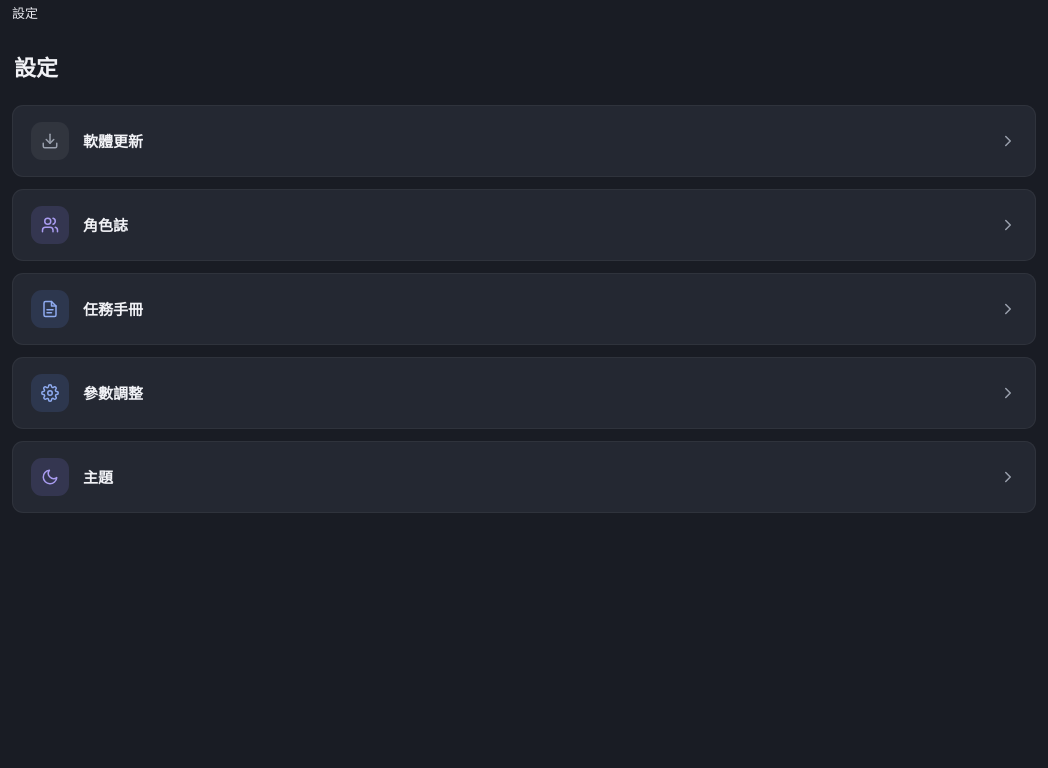
Test: SettingsPage · 角色誌 新增角色定義 (inline row) › Esc collapses the row without creating; the confirm button also creates
Click the button "角色誌" at (50, 224), box [12,188,1036,260]
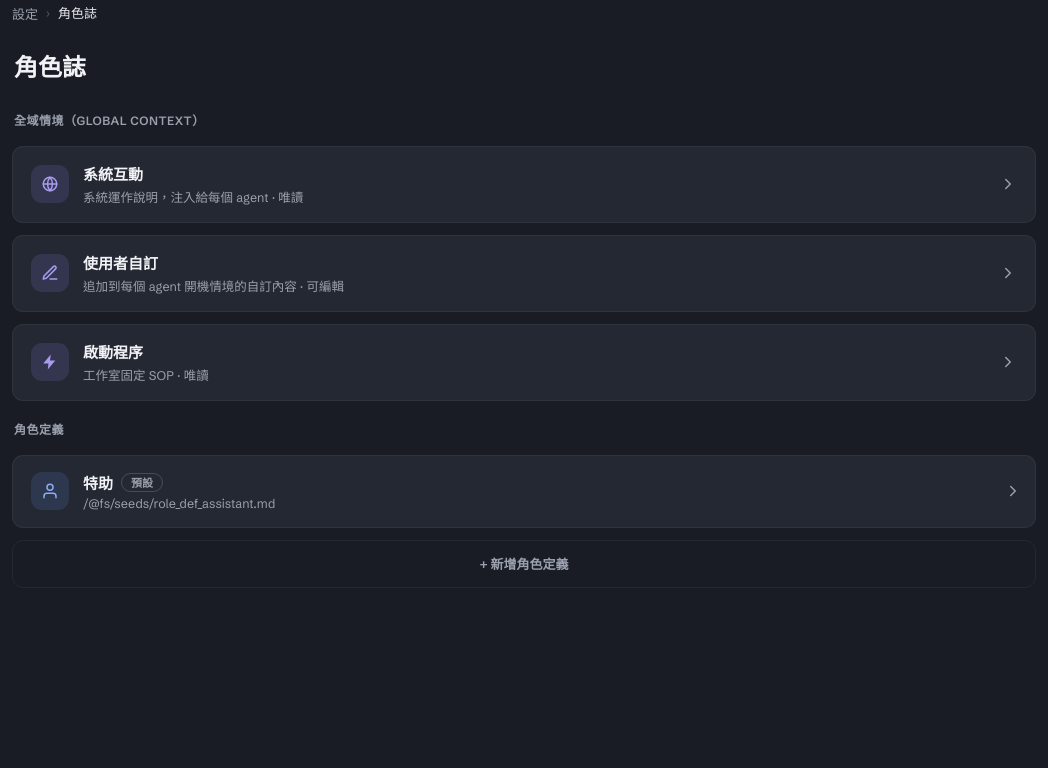
Now the text "系統互動" is shown, box [83,164,143,184]
Click the button "+ 新增角色定義" at (524, 564), box [12,540,1036,588]
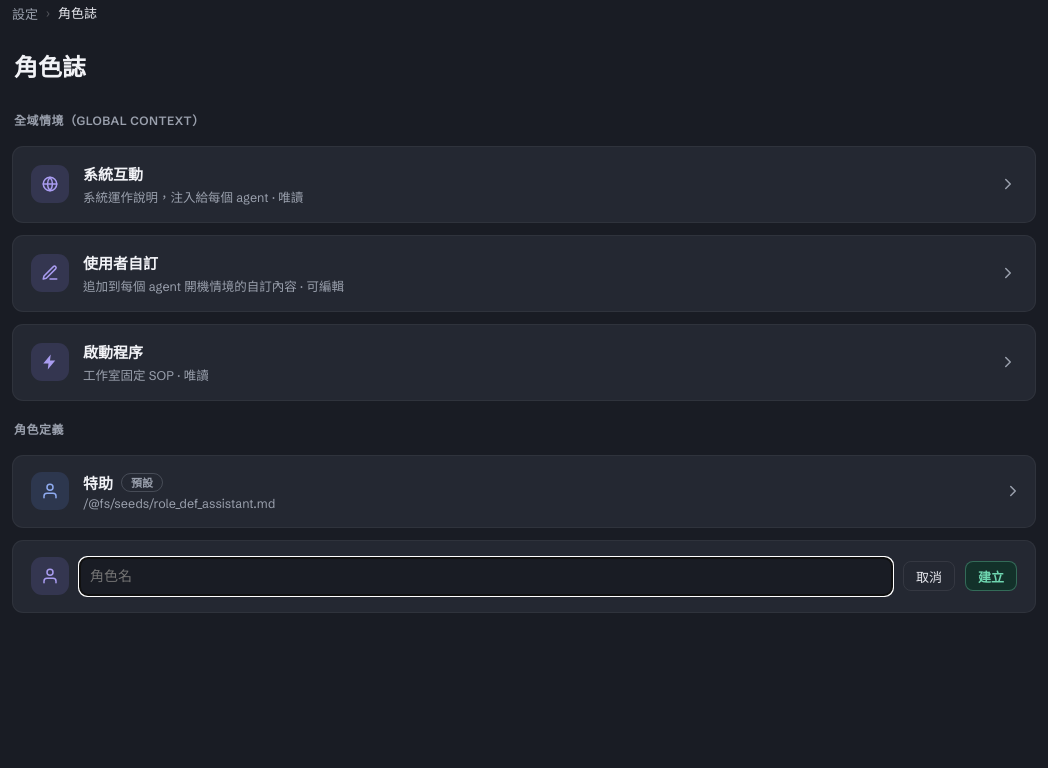
Type "顧問" into the field with test id "role-create-name" at (486, 576), box [79,556,893,596]
Press Escape in the field with test id "role-create-name", box [79,556,893,596]
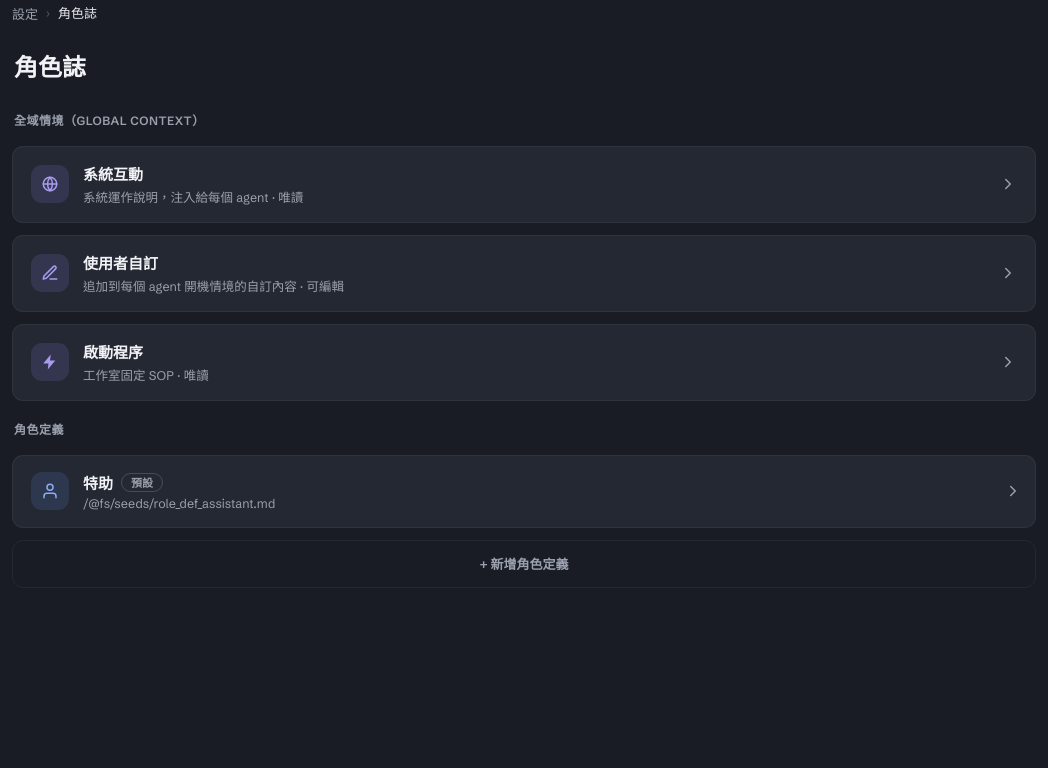
Now the element with test id "role-create-row" is gone
Click the button "+ 新增角色定義" at (524, 564), box [12,540,1036,588]
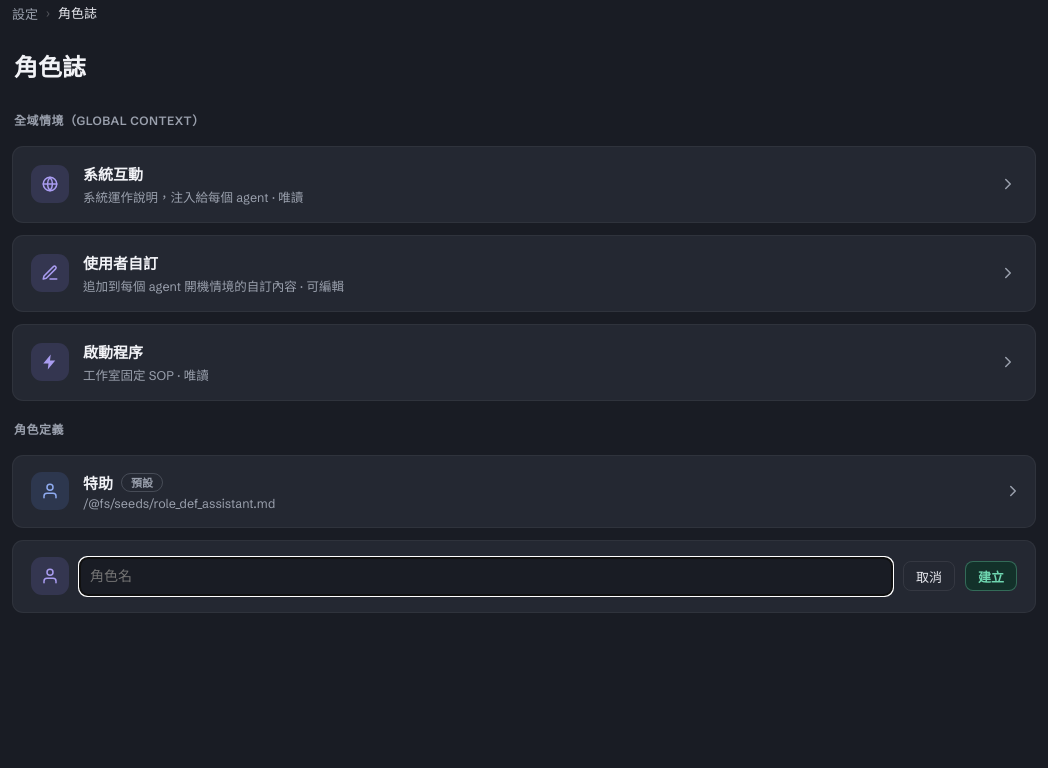
Now the field with test id "role-create-name" is empty
Type "顧問" into the field with test id "role-create-name" at (486, 576), box [79,556,893,596]
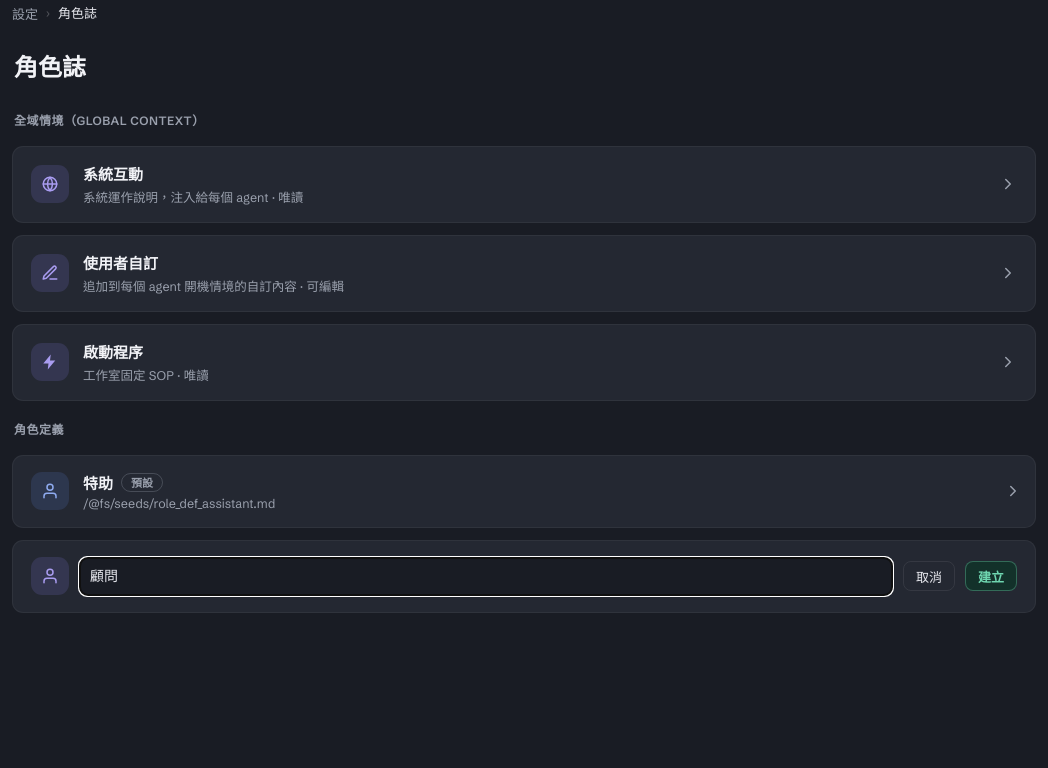
Click the button with test id "role-create-submit" at (991, 576), box [965,561,1017,591]
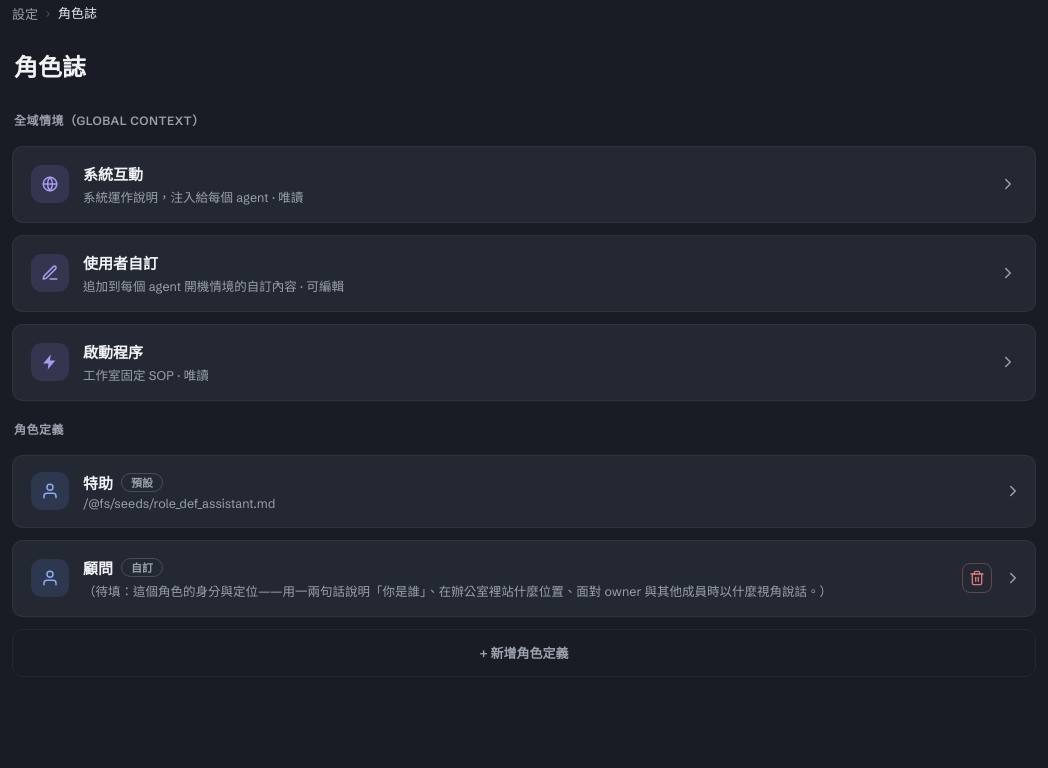
Now the text "顧問" is shown, box [83,558,113,578]
